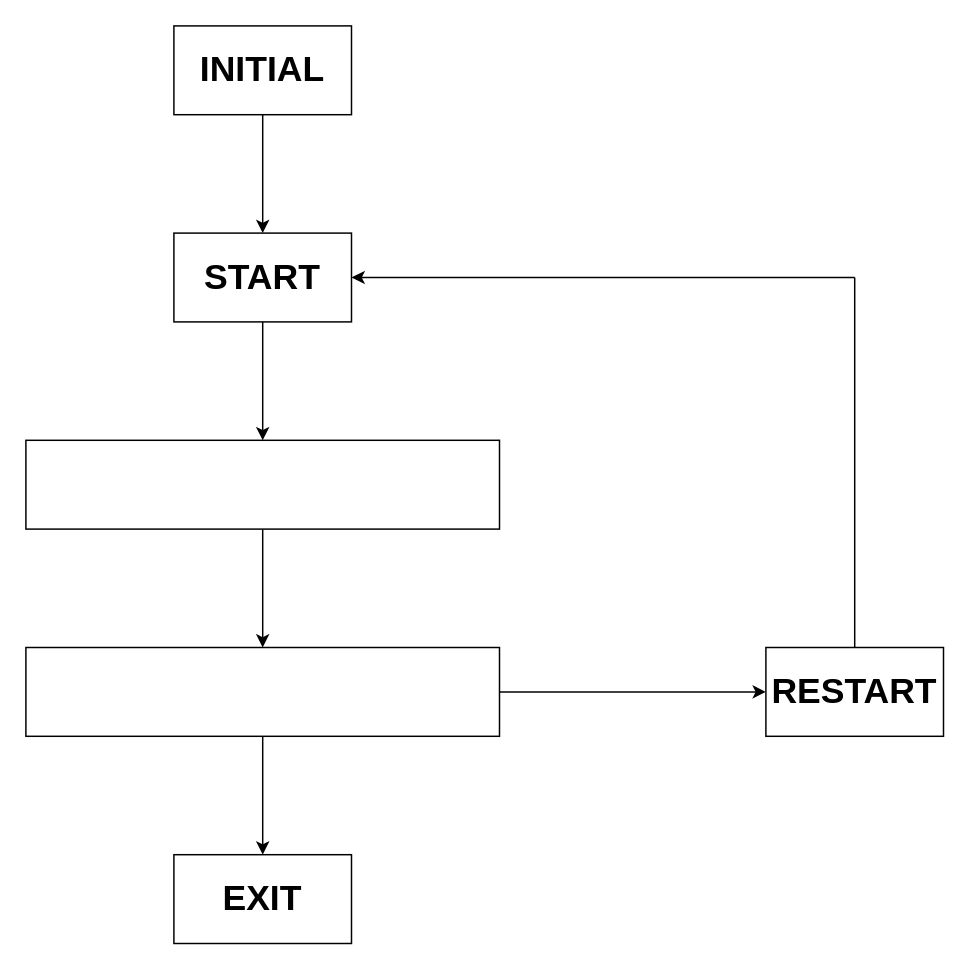
Some shapes in this 969 by 969 pixel diagram are drawn without their labels. The centre of each missing label's shape, as x and y in pixels:
"GAMEOVER/WINNER" belongs at (x=262, y=691).
"SHIFTING/MOVING" belongs at (x=262, y=484).
